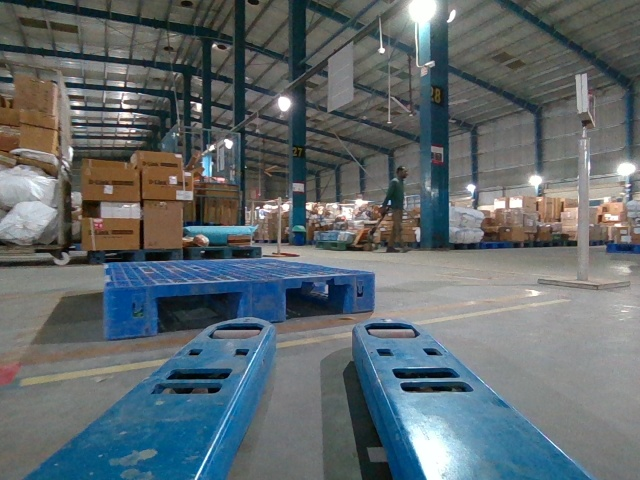block: (104, 284, 159, 341), (238, 278, 289, 324), (348, 269, 376, 316)
front: (107, 270, 377, 338)
hole pallet: (158, 290, 241, 332), (286, 286, 352, 320)
